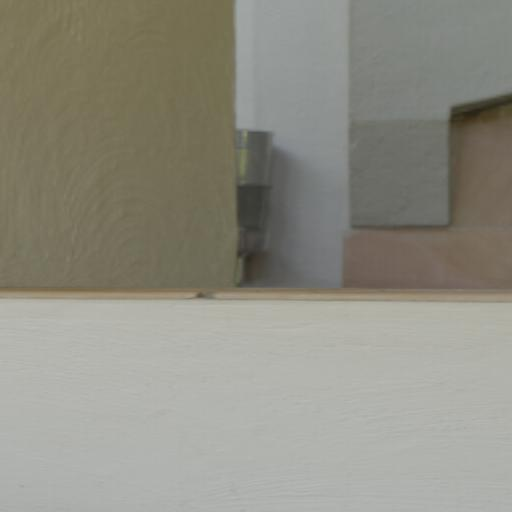nothing: (3, 2, 509, 512)
